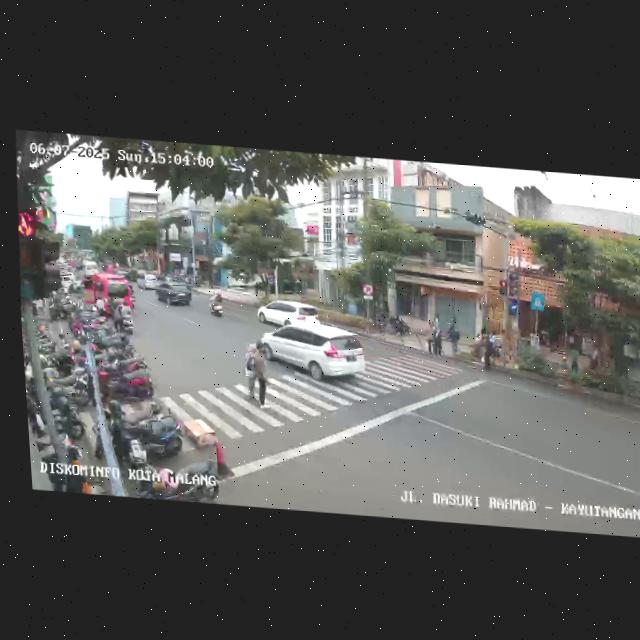car: (252, 317, 368, 389), (79, 269, 134, 317), (255, 299, 322, 330), (153, 278, 193, 308)
motorcycle: (115, 301, 135, 337), (207, 289, 226, 318)
person: (253, 340, 274, 407), (242, 341, 259, 401), (446, 320, 461, 358), (424, 319, 437, 355), (432, 325, 445, 357)
